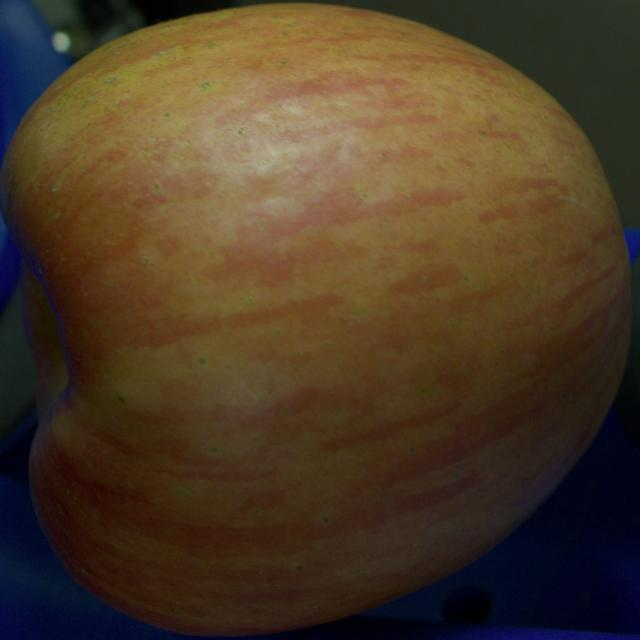apple: (2, 4, 631, 635)
bruise: (228, 142, 354, 196)
